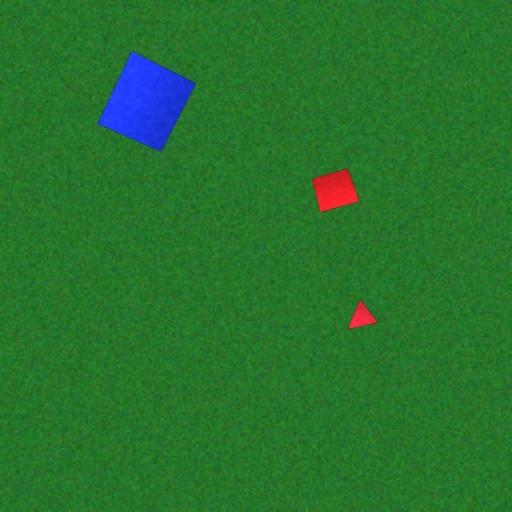BLUE_SQUARE: (96, 50, 198, 153)
RED_SQUARE: (311, 167, 360, 214)
